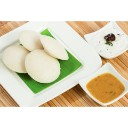idly: (27, 49, 61, 81), (1, 45, 31, 73), (41, 34, 70, 61), (20, 29, 42, 52)
